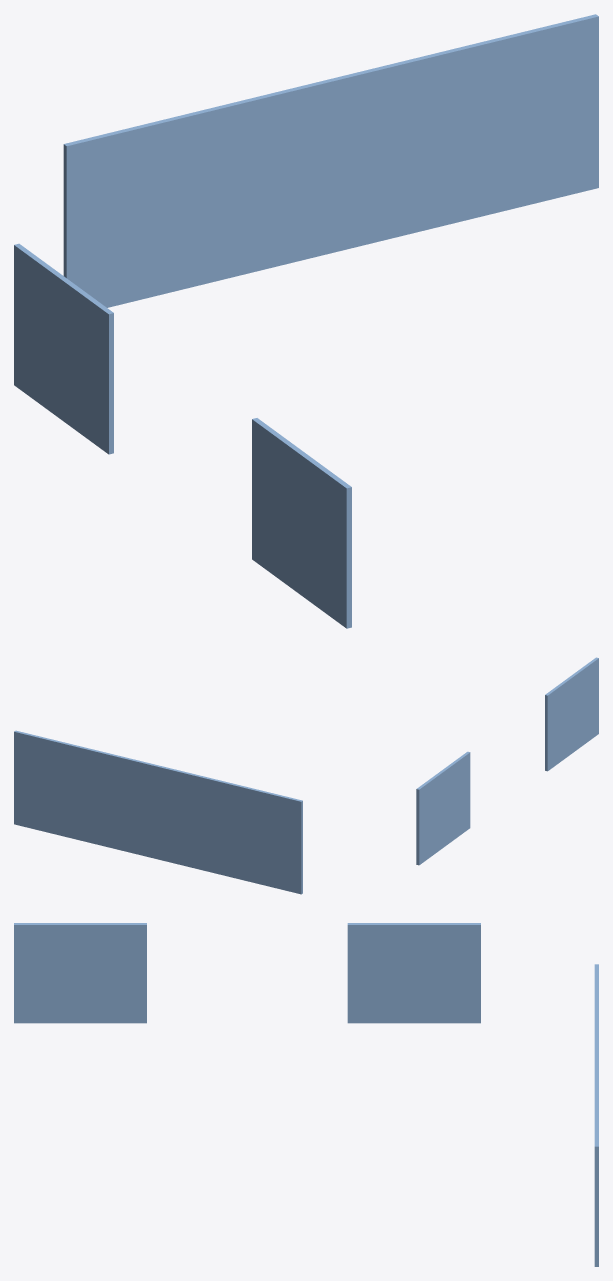
File: classroom_windows.glb
3 renders of one model, top to bottom at view 1: azimuth 30°, elevation 25°; view 2: azimuth 150°, elevation 25°; view 3: azimuth 270°, elevation 25°, orthographic. The views are drawn at different scales.
Visible parts, largest first — view 1: Cube.024, Cube.025, Cube.026; view 2: Cube.024, Cube.025, Cube.026; view 3: Cube.025, Cube.026, Cube.024.
Part boxes in pixels (bbox=[...]): Cube.024: bbox=[63, 14, 598, 307]; Cube.025: bbox=[14, 243, 113, 454]; Cube.026: bbox=[252, 418, 351, 628]; Cube.024: bbox=[14, 730, 302, 894]; Cube.025: bbox=[416, 751, 470, 865]; Cube.026: bbox=[545, 657, 598, 771]; Cube.025: bbox=[347, 923, 480, 1023]; Cube.026: bbox=[14, 923, 146, 1023]; Cube.024: bbox=[594, 964, 598, 1266].
Bounding box in the file's own units: 2902 × 714 × 3146.
